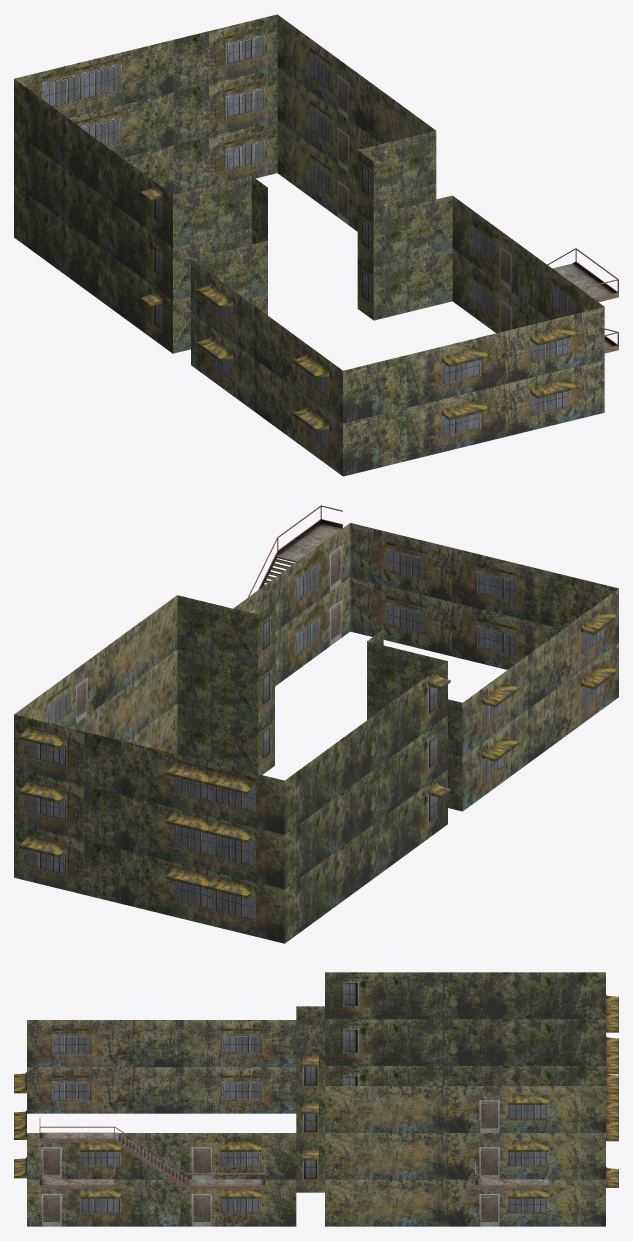
Rendered from Apt4_HD.FBX.
The picture shows the model from 3 angles, top to bottom: view 1: azimuth 30°, elevation 25°; view 2: azimuth 150°, elevation 25°; view 3: azimuth 270°, elevation 25°; orthographic projection. The views are drawn at different scales.
Visible parts, largest first — view 1: Apt4_HDBase; view 2: Apt4_HDBase; view 3: Apt4_HDBase.
Part boxes in pixels (box(x1,y1,x2,y2)): Apt4_HDBase: box(14, 14, 618, 476); Apt4_HDBase: box(14, 505, 618, 943); Apt4_HDBase: box(14, 972, 618, 1226).
Bounding box in the file's own units: 1901 × 960 × 3748.
1 material, 1 textured.
